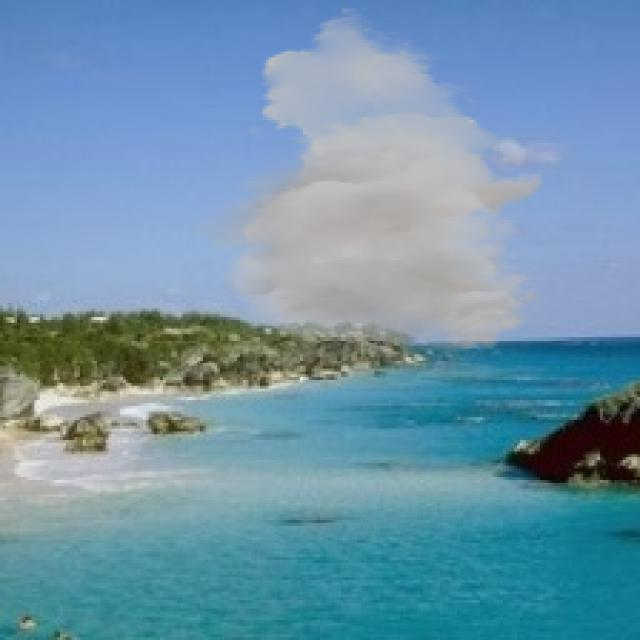Smoke: (183, 6, 546, 352)
